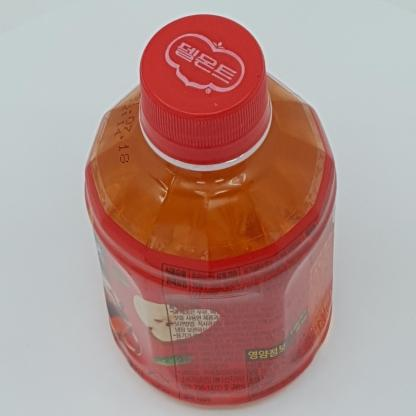----------280ML: (84, 14, 337, 408)
